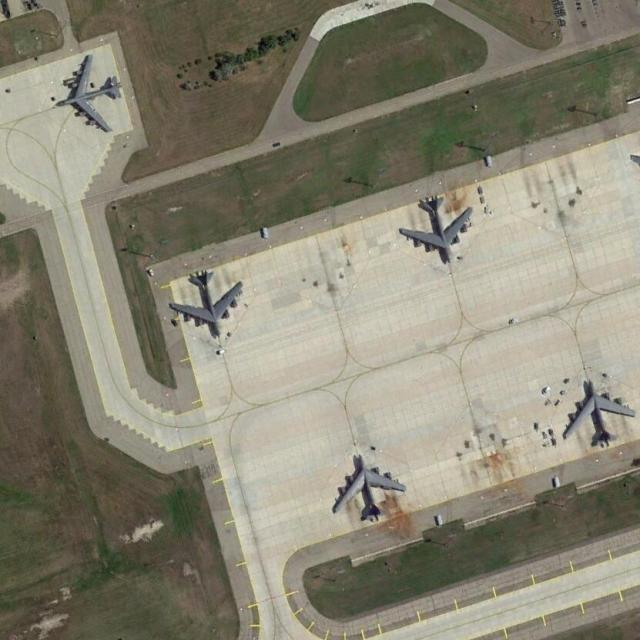fighter jet: (560, 383, 636, 452), (55, 64, 124, 136), (332, 461, 406, 525), (172, 277, 246, 338), (411, 200, 475, 265)
